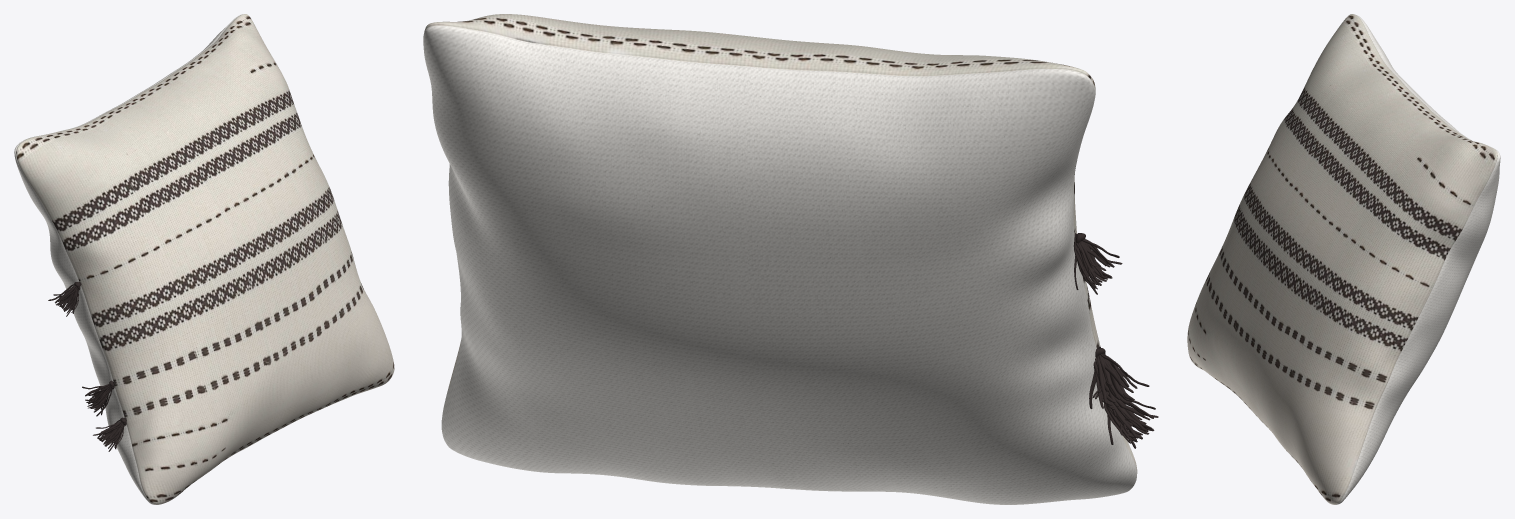
The picture shows the model from 3 angles, left to right: view 1: azimuth 30°, elevation 25°; view 2: azimuth 150°, elevation 25°; view 3: azimuth 270°, elevation 25°; orthographic projection. The views are drawn at different scales.
Parts seen in each view (by area): view 1: Item_Almofada Pontilhado Bege; view 2: Item_Almofada Pontilhado Bege; view 3: Item_Almofada Pontilhado Bege.
Boxes of the visible parts, x1=… form: Item_Almofada Pontilhado Bege: x1=14, y1=14, x2=394, y2=504; Item_Almofada Pontilhado Bege: x1=423, y1=14, x2=1158, y2=504; Item_Almofada Pontilhado Bege: x1=1187, y1=14, x2=1500, y2=504.
Size of the model in its own units: 0.4893 by 0.4044 by 0.3542.
3 materials, 2 textured.
